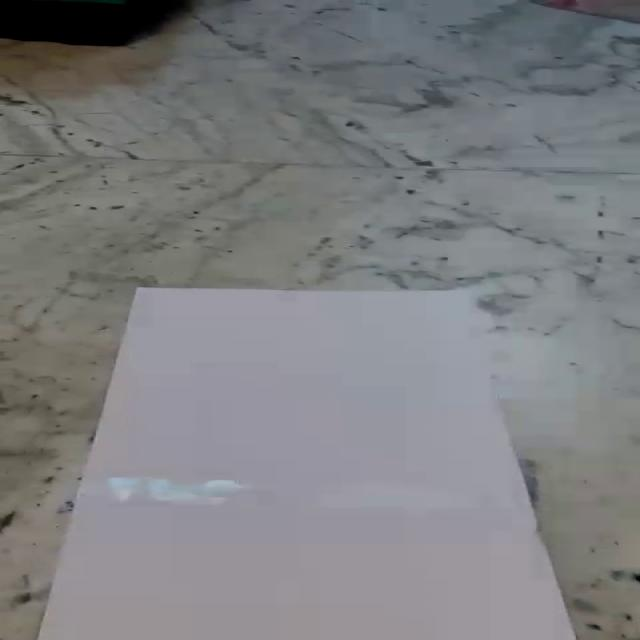road: (35, 288, 577, 640)
